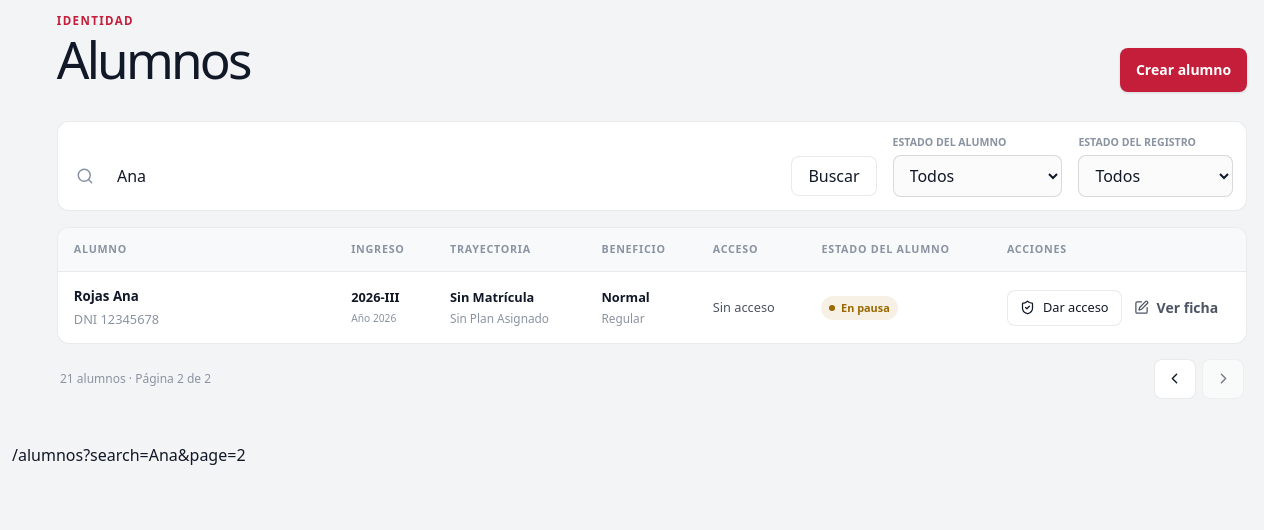
acceso directo ALUMNO › revalida la cuenta antes de crear si otra sesión ya dio acceso
The width and height of the screenshot is (1264, 530).
Click the button "Dar acceso" at (1064, 308), box [1007,290,1122,326]
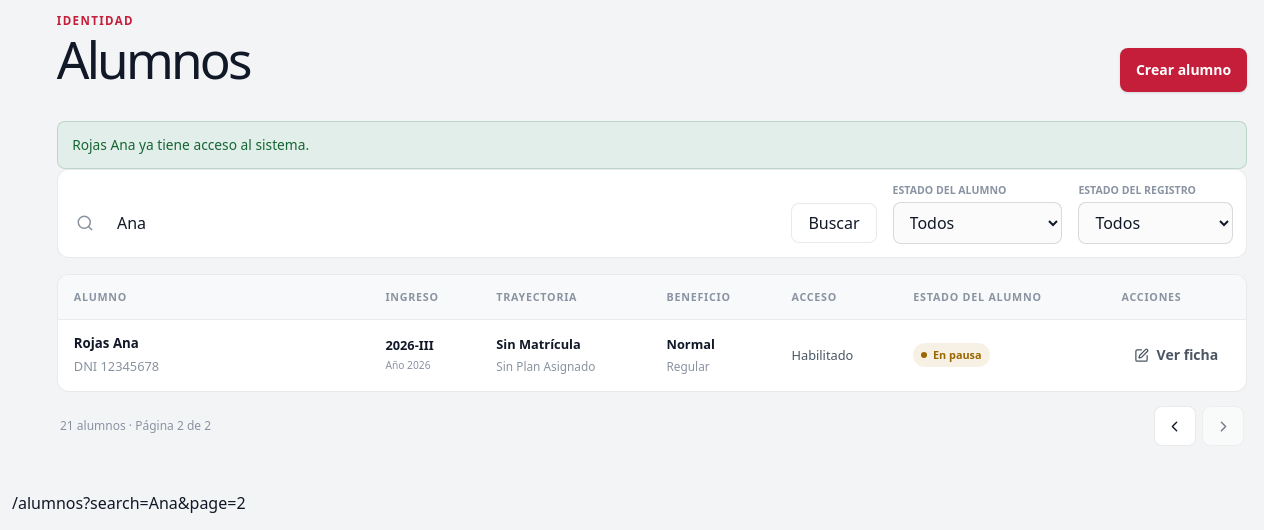
Expected: the text "Rojas Ana ya tiene acceso al sistema." is shown, [57,121,1247,169]
